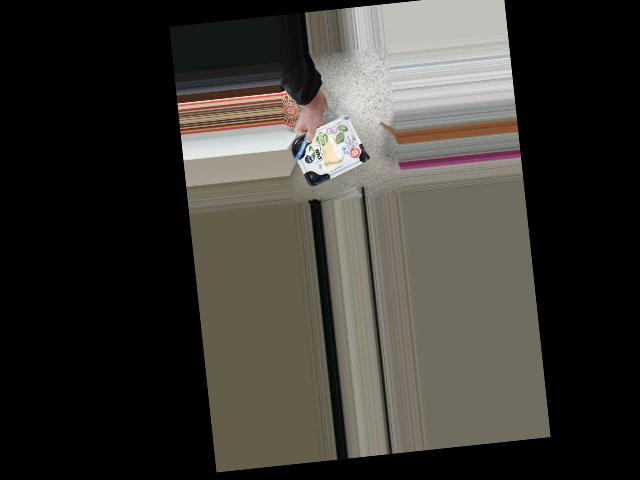cheese: (297, 121, 363, 178)
